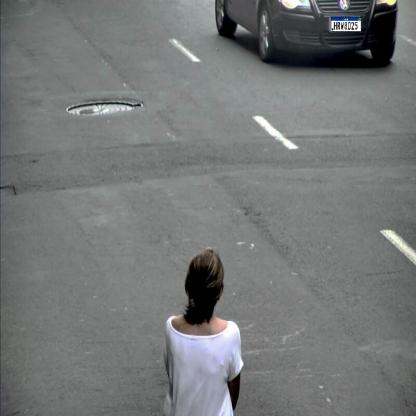PlacaM: (331, 17, 361, 32)
